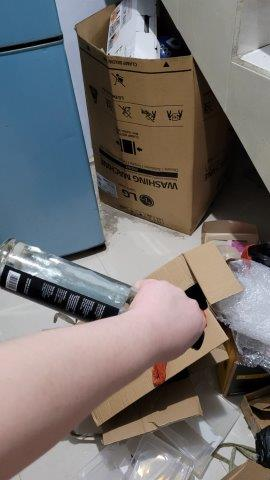botolkaca: (1, 237, 208, 362)
